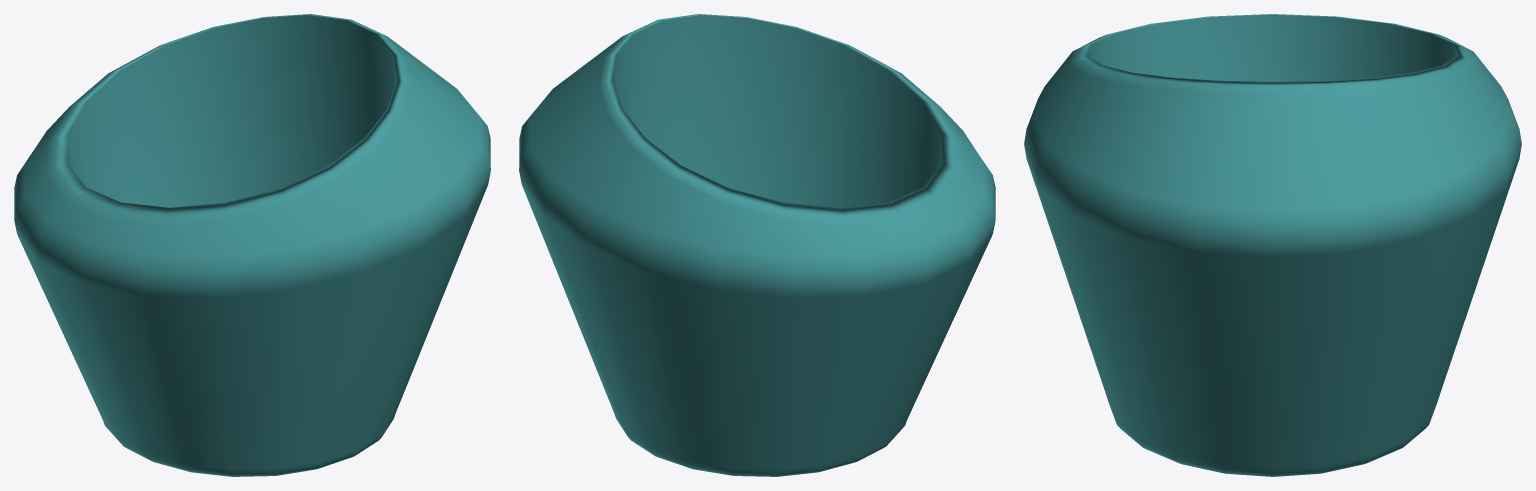
The model's file is Texture_ToothBrushHolderofficial.obj.
The picture shows the model from 3 angles, left to right: view 1: azimuth 30°, elevation 25°; view 2: azimuth 150°, elevation 25°; view 3: azimuth 270°, elevation 25°; orthographic projection. The views are drawn at different scales.
Visible parts, largest first — view 1: ToothBrush_HolderBase; view 2: ToothBrush_HolderBase; view 3: ToothBrush_HolderBase.
Boxes of the visible parts, <box> form: ToothBrush_HolderBase: <box>14,14,490,476</box>; ToothBrush_HolderBase: <box>519,14,995,476</box>; ToothBrush_HolderBase: <box>1024,14,1521,476</box>.
Size of the model in its own units: 2.9 by 2.29 by 2.58.
